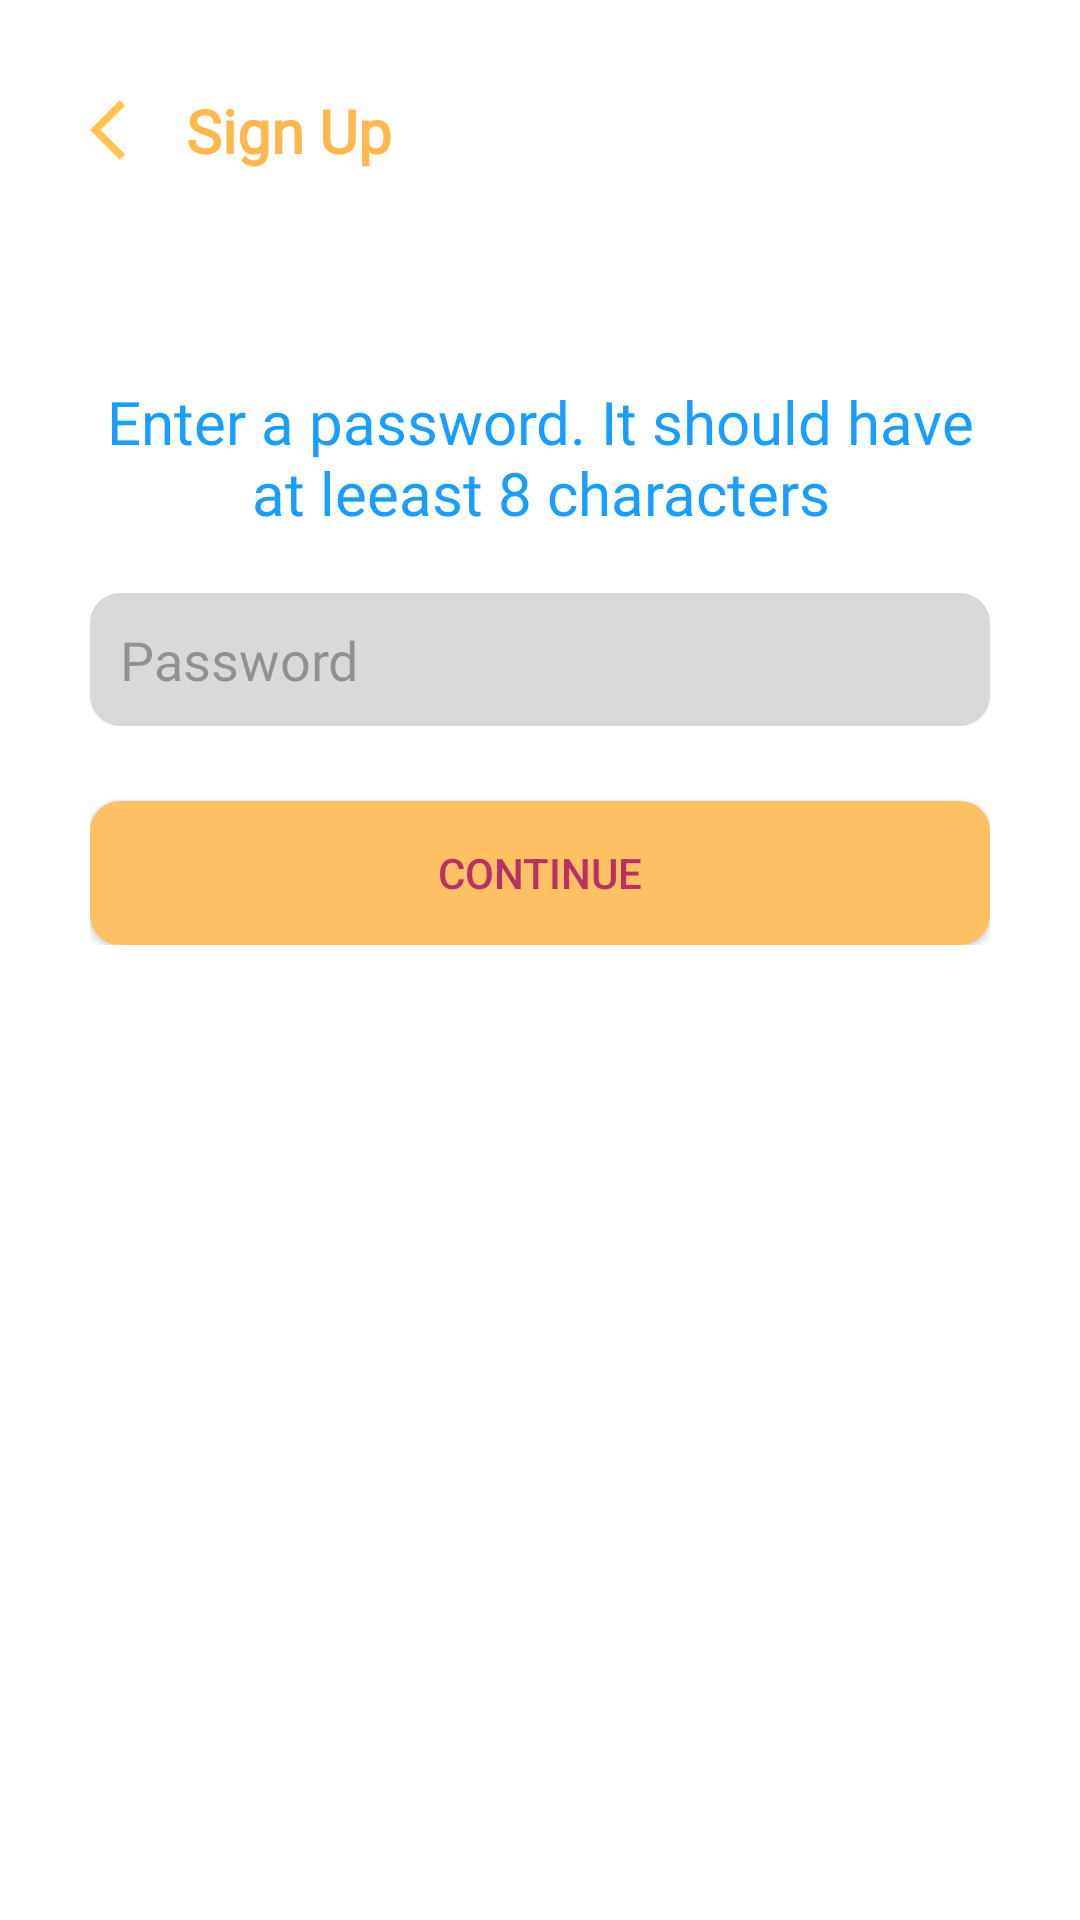

Icon click points for this 1080px x 1920px phone screenshot, format point (x, y):
back: point (107, 130)
